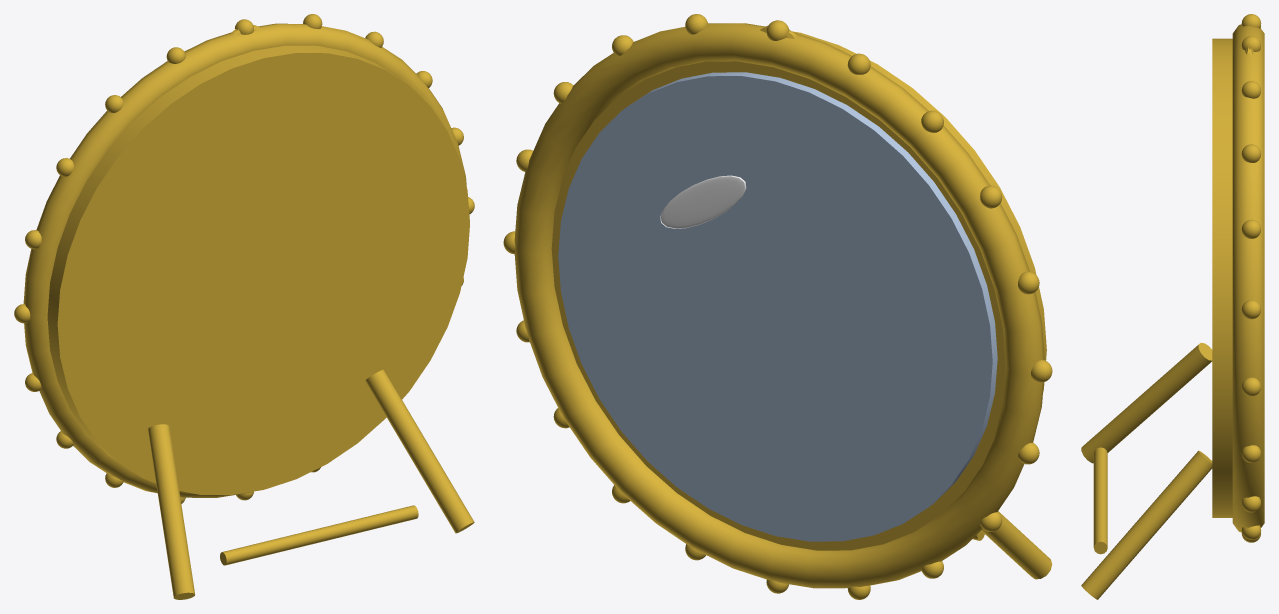
Rendered from mirror.fbx.
3 renders of one model, left to right at view 1: azimuth 30°, elevation 25°; view 2: azimuth 150°, elevation 25°; view 3: azimuth 270°, elevation 25°, orthographic. The views are drawn at different scales.
Parts seen in each view (by area): view 1: Antique Mirror; view 2: Antique Mirror; view 3: Antique Mirror.
Part boxes in pixels (x1,y1,x2,y2): Antique Mirror: (14,14,474,599); Antique Mirror: (503,14,1052,599); Antique Mirror: (1081,14,1264,599).
Size of the model in its own units: 1.91 by 1.95 by 0.6565.
